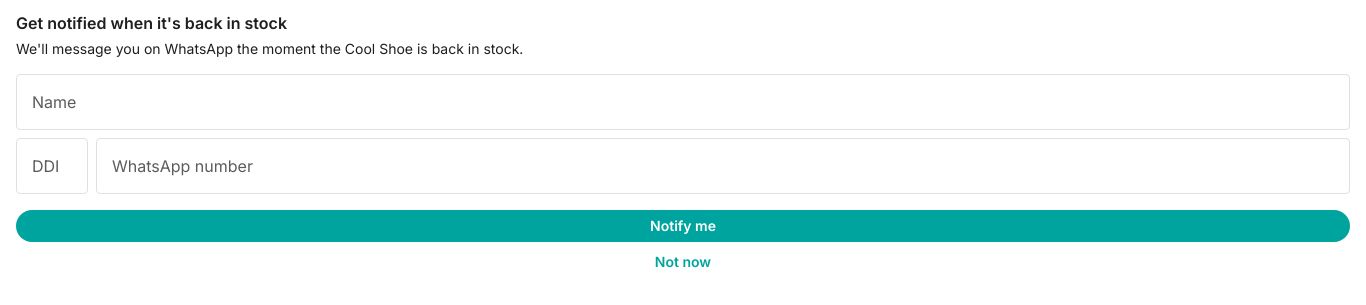
Test: BackInStockNotify › does not submit an invalid phone number
The image size is (1366, 305).
Type "Ana" into the field labelled "Name" at (683, 102), box [16,74,1350,130]
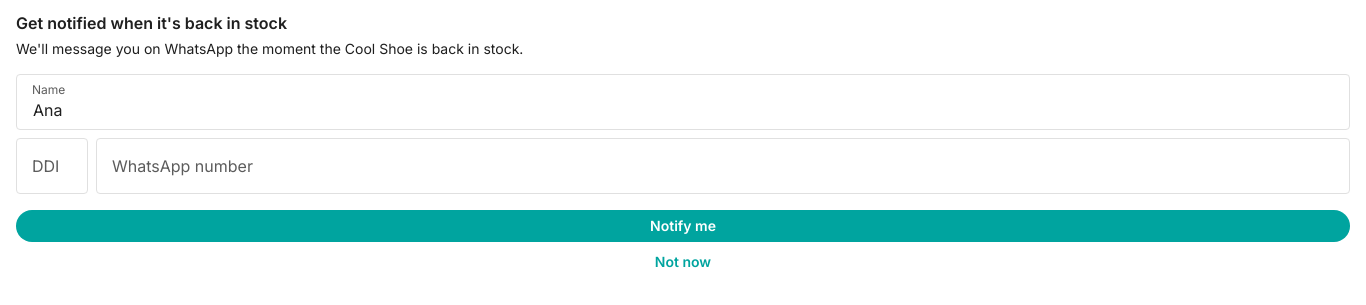
Type "+55" into the field labelled "DDI" at (52, 166), box [16,138,88,194]
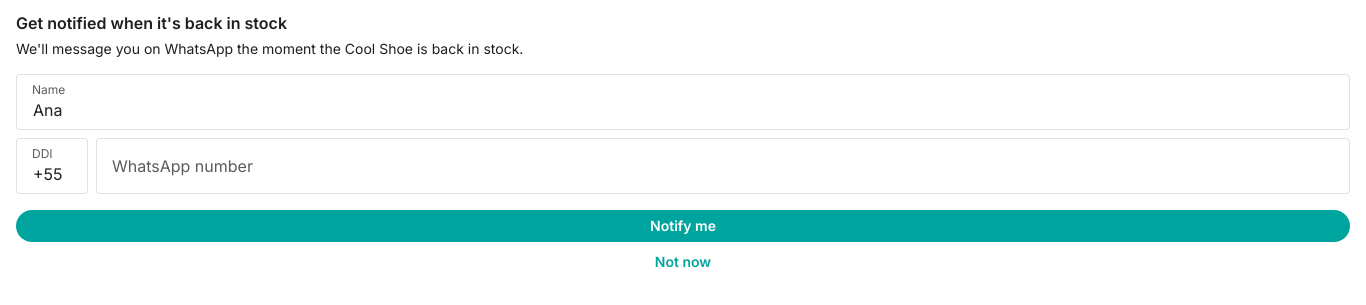
Type "123" into the field labelled "WhatsApp number" at (723, 166), box [96,138,1350,194]
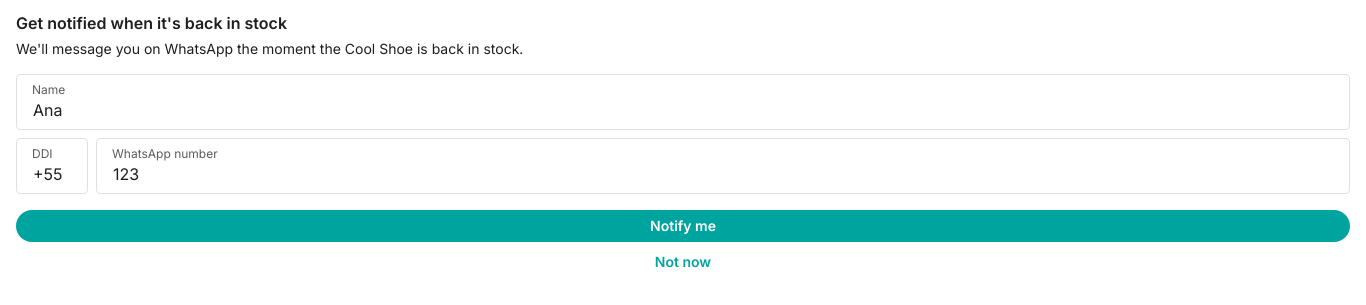
Click the button "Notify me" at (683, 226), box [16,210,1350,242]
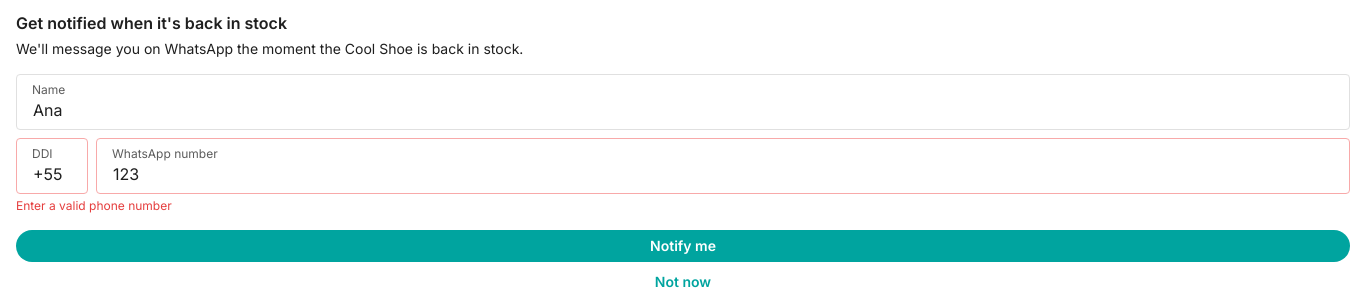
Expected: the message reads "Enter a valid phone number", [16,198,172,213]
